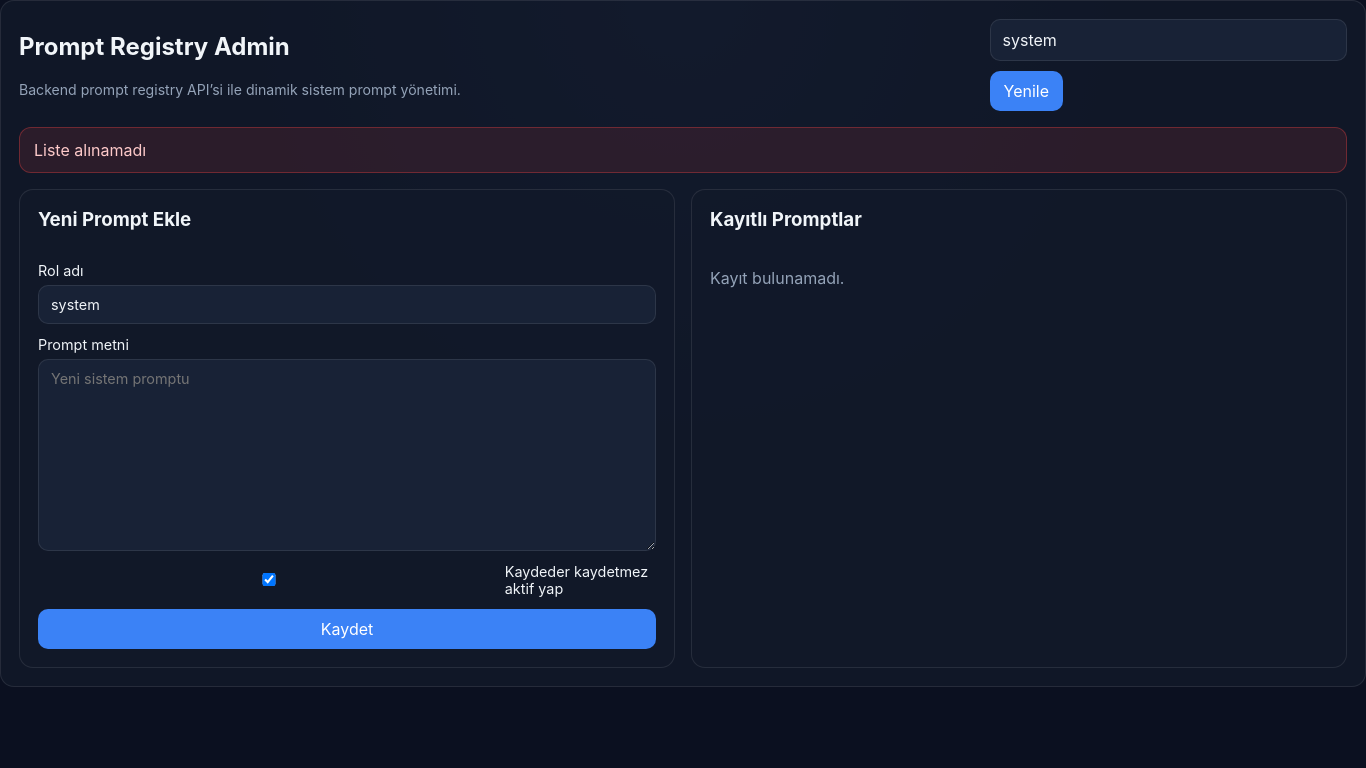
Test: PromptAdminPanel › shows load and submit errors when API fails
Expected: the text "Liste alınamadı" is shown, [19,127,1347,173]
Step 1. Type "bozuk payload" into the text box with placeholder "Yeni sistem promptu" → {"x": 347, "y": 455}, box [38,359,656,551]
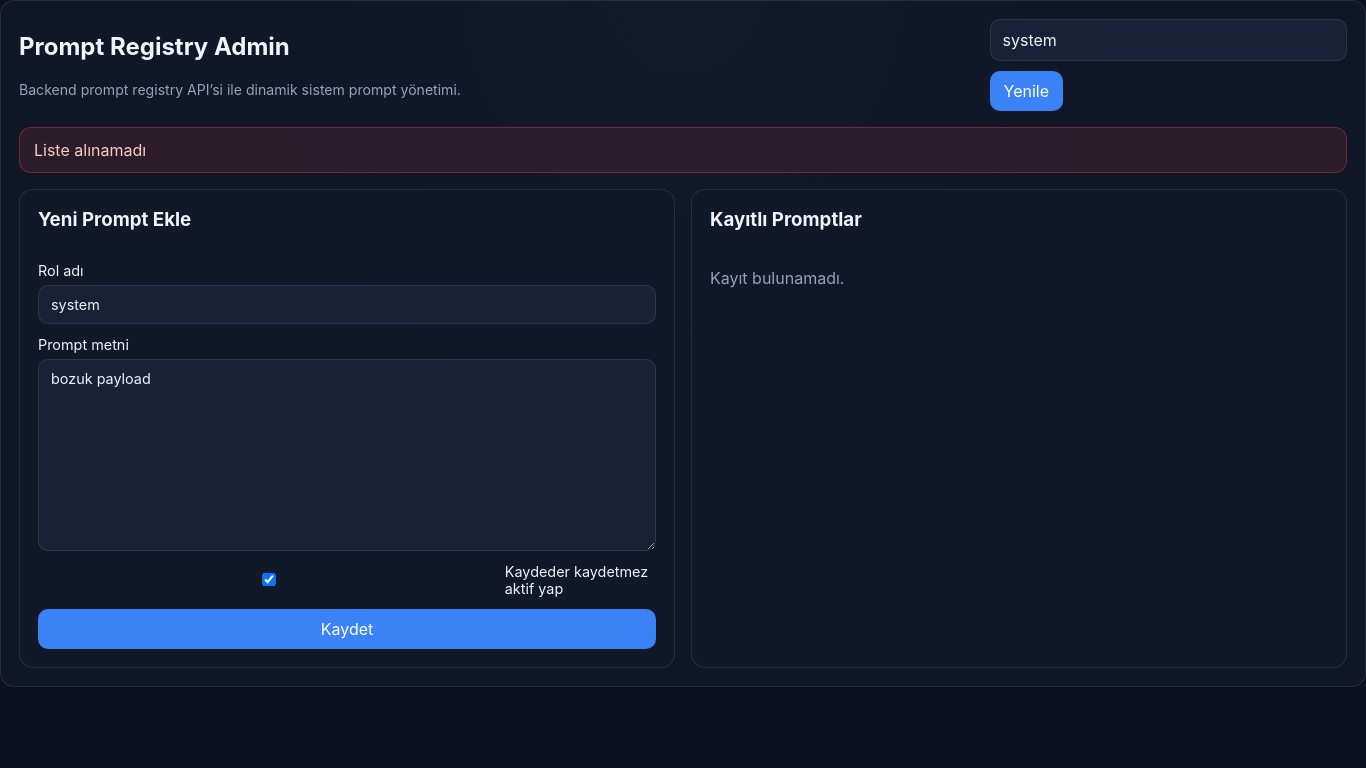
Step 2. Click the button "Kaydet" → {"x": 347, "y": 629}, box [38,609,656,649]
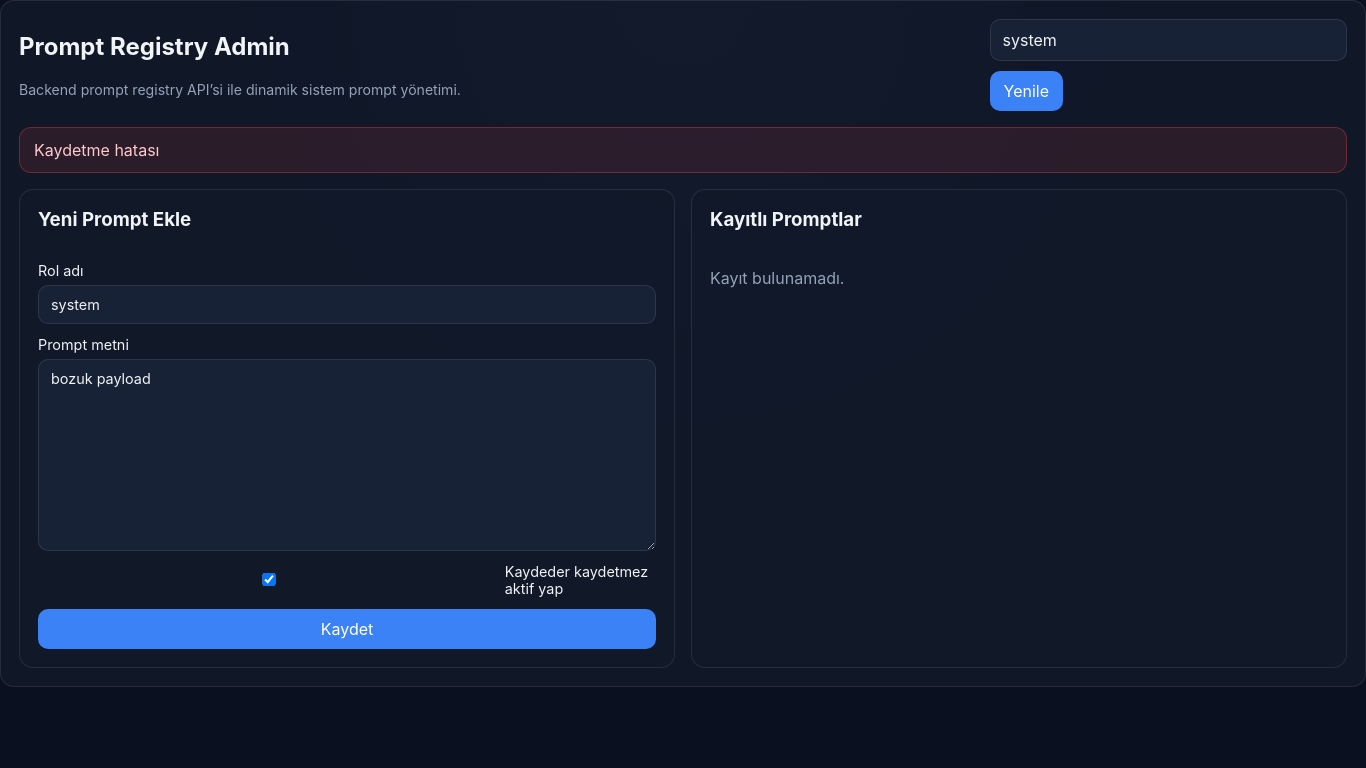
Expected: the text "Kaydetme hatası" is shown, [19,127,1347,173]
